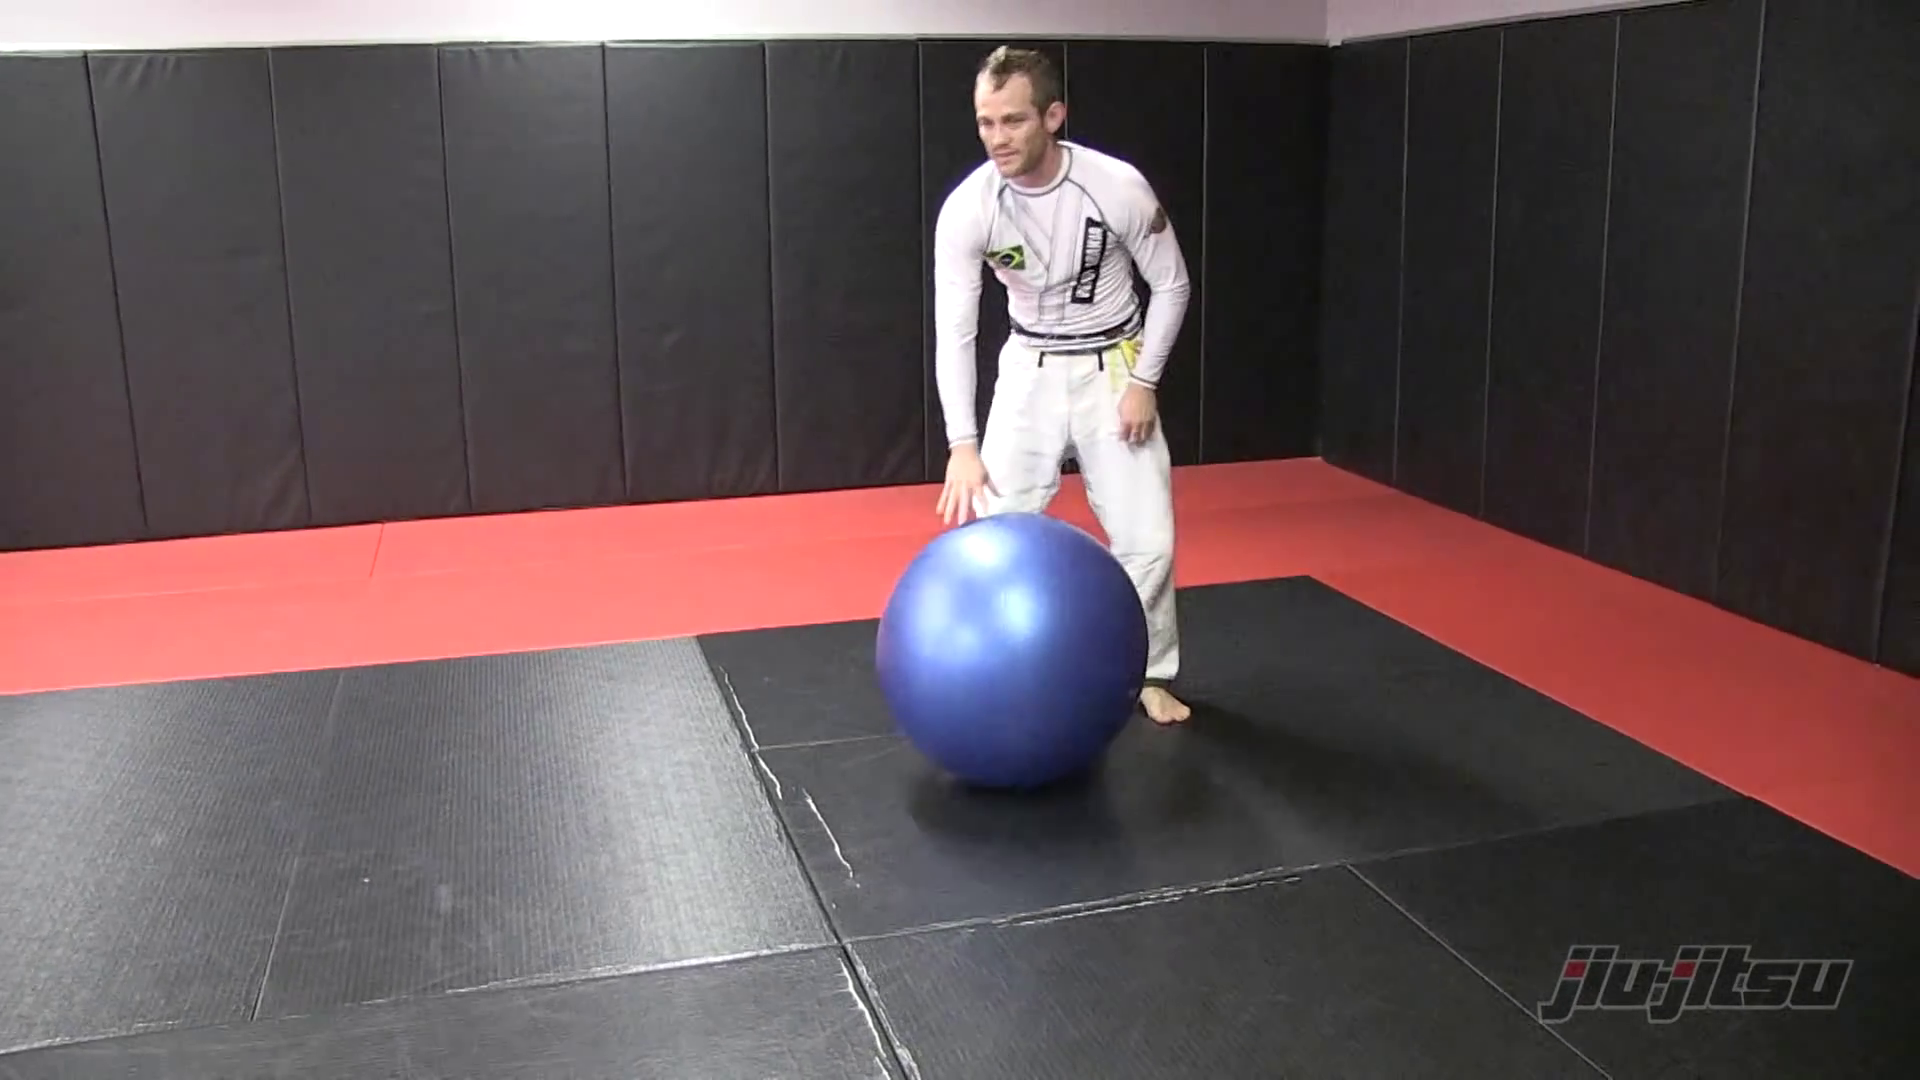yogaball: (860, 508, 1174, 803)
